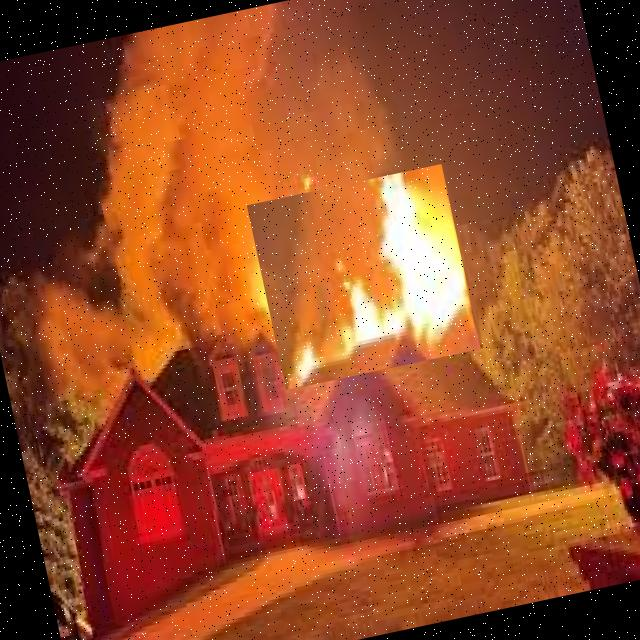fire: (247, 163, 480, 390)
